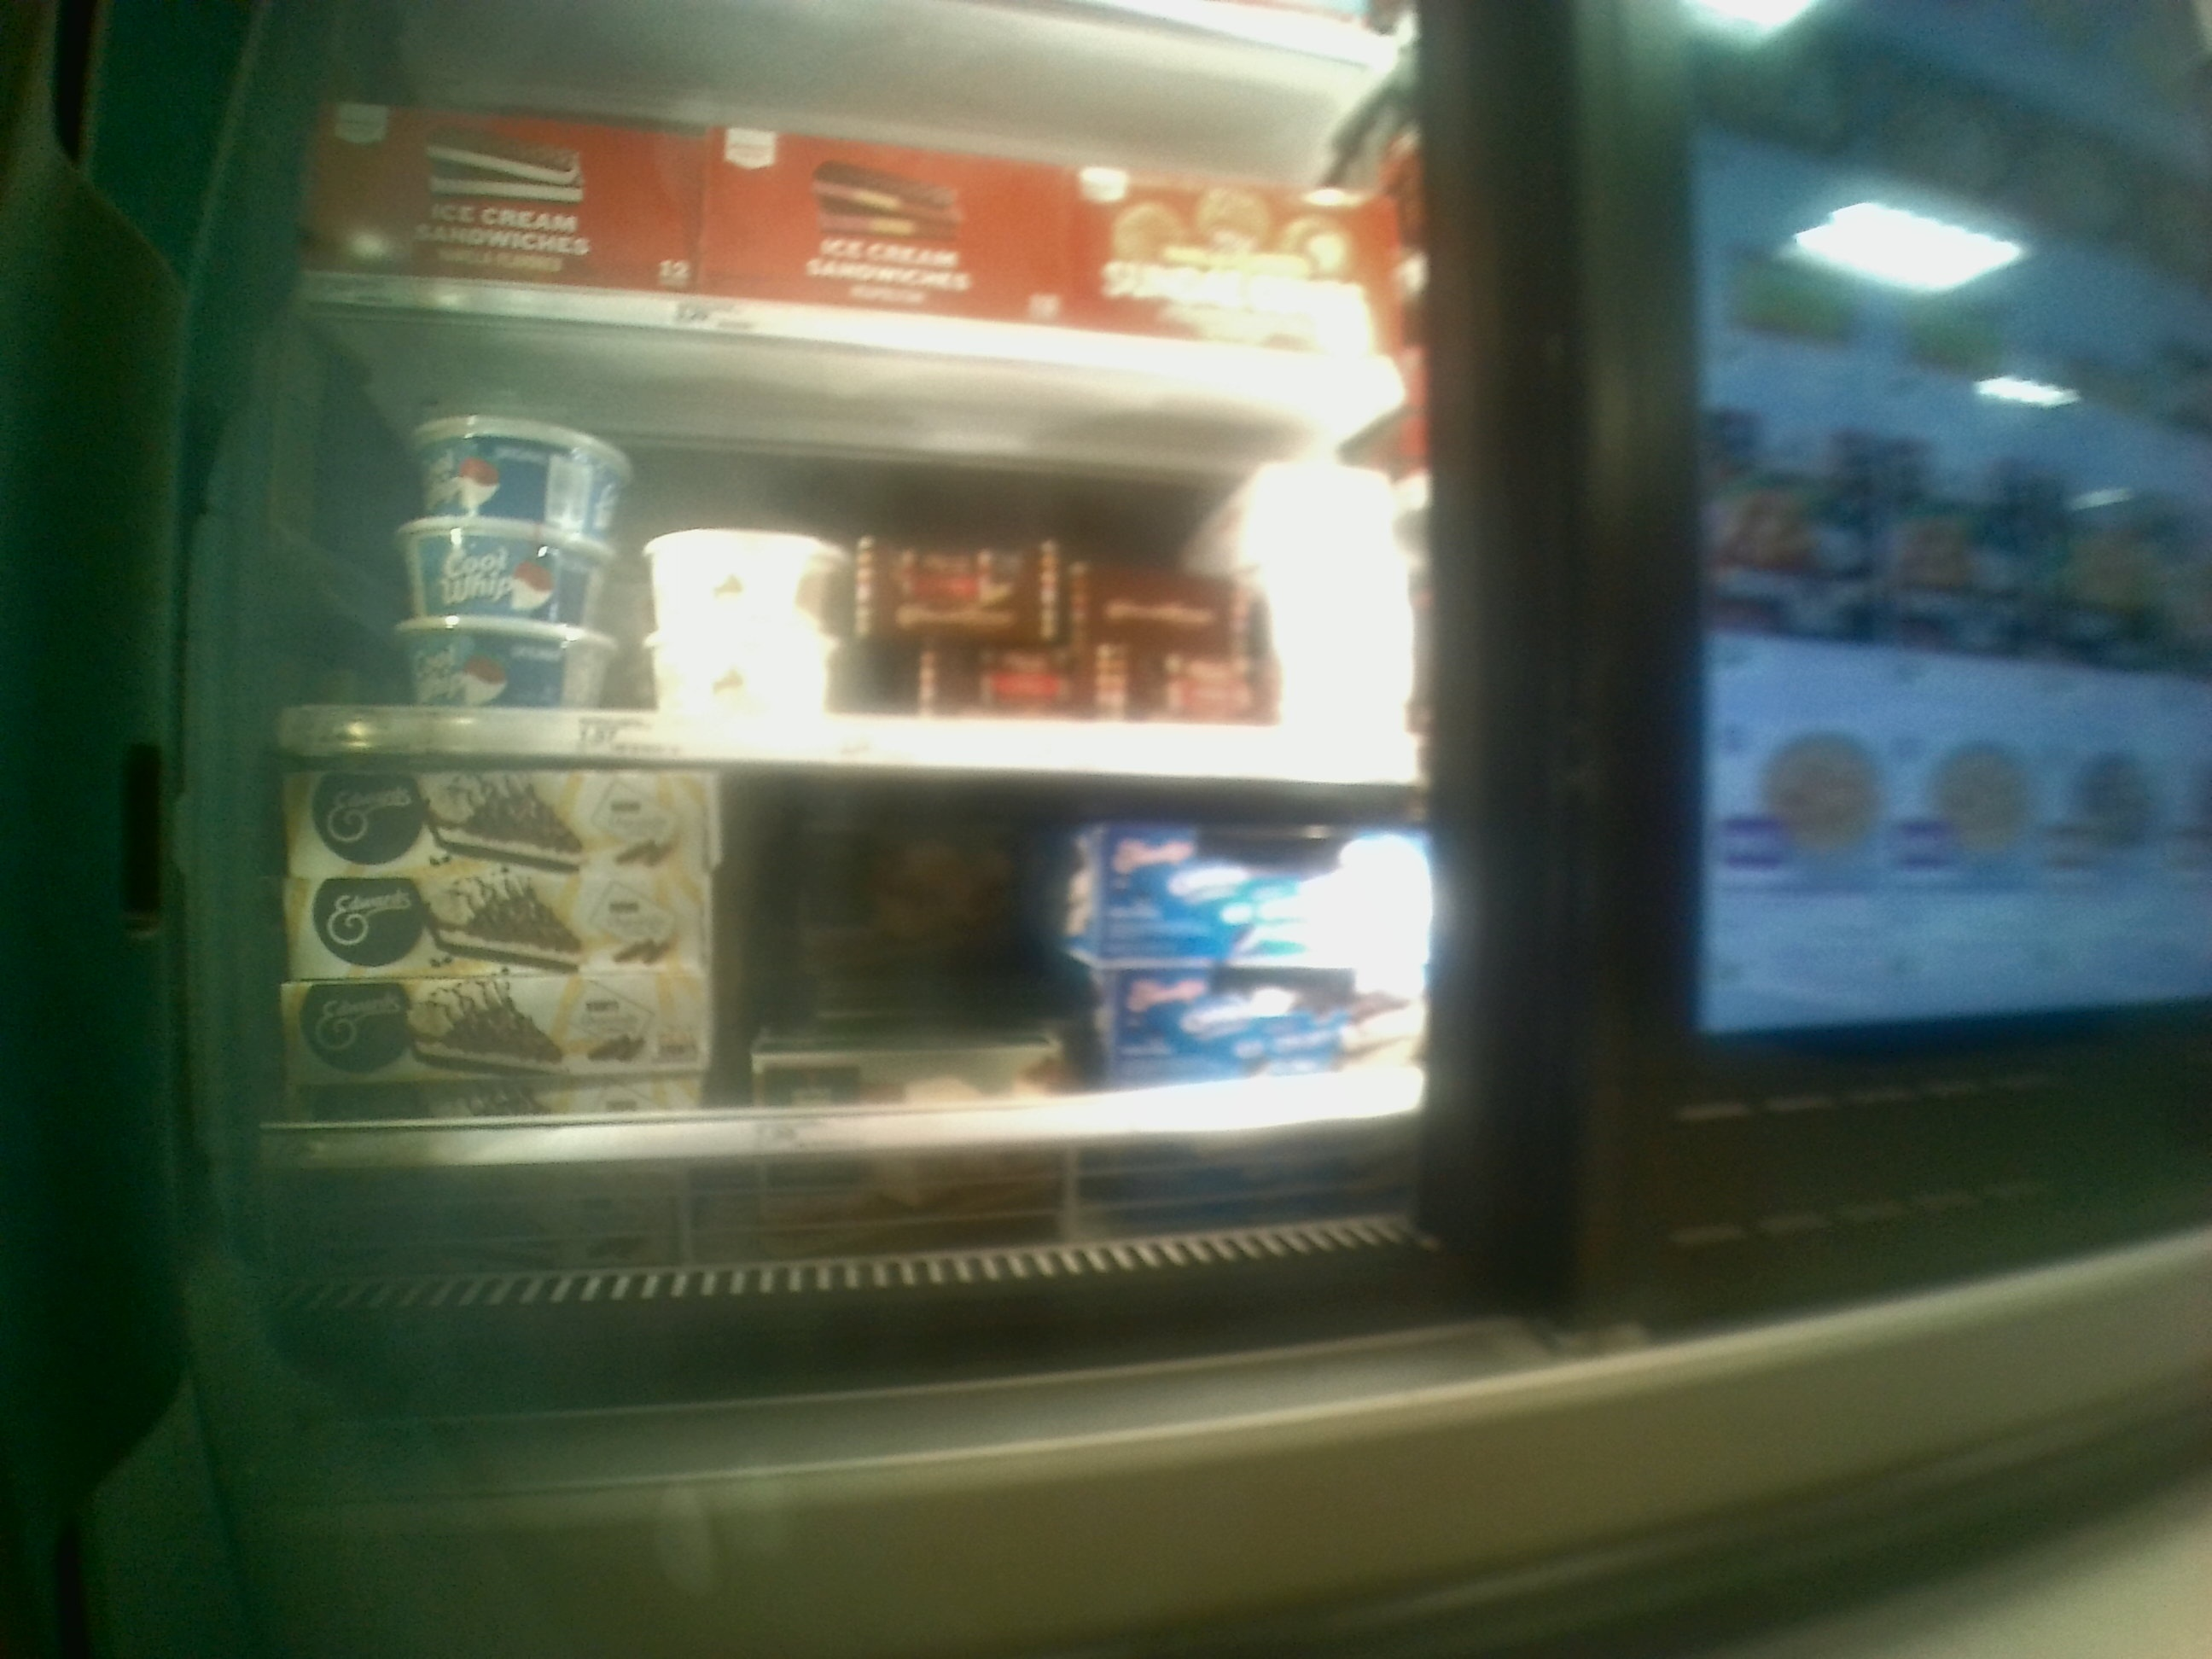shelf: (275, 753, 1444, 1263), (280, 289, 1433, 796)
